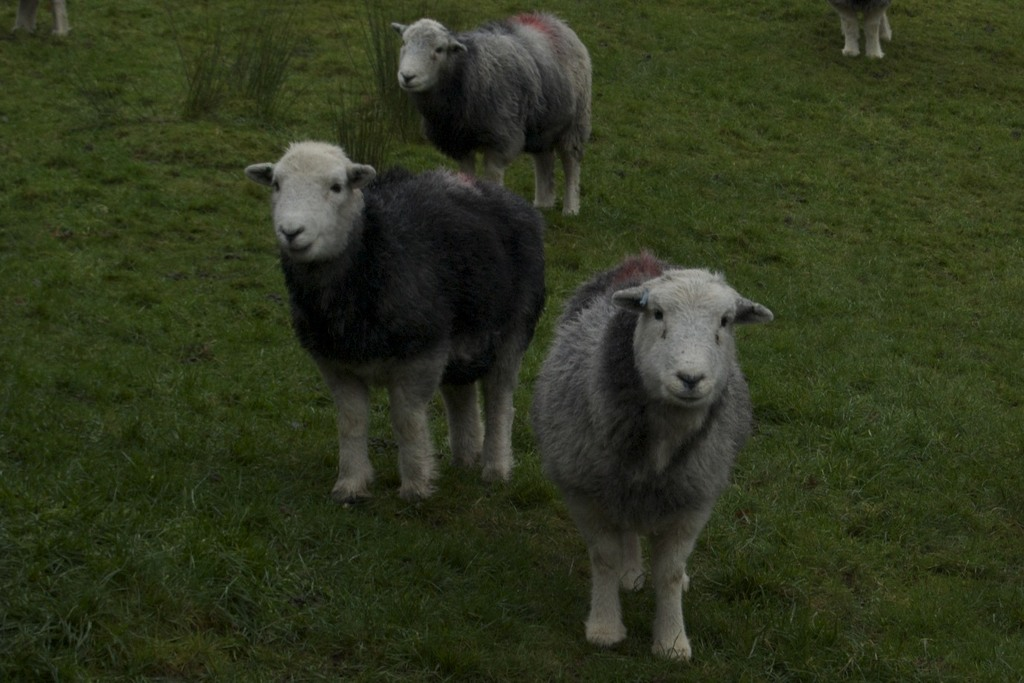sheep: (236, 138, 552, 499), (536, 253, 773, 660)
